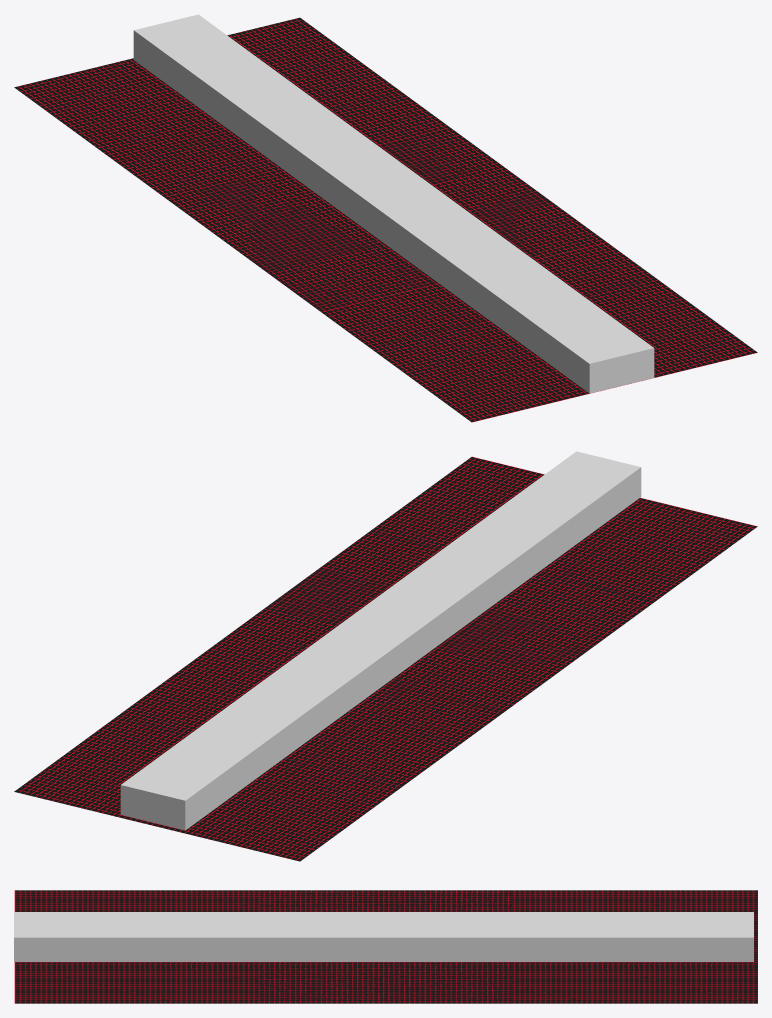
The model's file is galeria_convida.glb.
The picture shows the model from 3 angles, top to bottom: view 1: azimuth 30°, elevation 25°; view 2: azimuth 150°, elevation 25°; view 3: azimuth 270°, elevation 25°; orthographic projection. The views are drawn at different scales.
Parts seen in each view (by area): view 1: PlayArea, Plane.003, Plane.029, Plane.028, Plane.002, Plane.027, Plane.001; view 2: PlayArea, Plane.003, Plane.028, Plane.029, Plane.002, Plane.027, Plane.001; view 3: PlayArea, Plane.028, Plane.002, Plane.029, Plane.003, Plane.027, Plane.001.
Part boxes in pixels (box(x1,y1,x2,y2)): PlayArea: box(133, 14, 654, 393); Plane.003: box(14, 64, 418, 311); Plane.029: box(165, 176, 565, 422); Plane.028: box(378, 128, 757, 376); Plane.002: box(227, 17, 606, 259); Plane.027: box(259, 169, 659, 399); Plane.001: box(109, 58, 438, 288); PlayArea: box(120, 451, 641, 830); Plane.003: box(204, 613, 605, 861); Plane.028: box(165, 456, 544, 698); Plane.029: box(382, 503, 757, 737); Plane.002: box(14, 567, 390, 814); Plane.027: box(380, 497, 662, 696); Plane.001: box(108, 608, 509, 838); PlayArea: box(14, 912, 753, 961); Plane.028: box(14, 965, 512, 1003); Plane.002: box(259, 965, 757, 1003); Plane.029: box(14, 890, 512, 911); Plane.003: box(259, 890, 757, 927); Plane.027: box(14, 962, 512, 966); Plane.001: box(260, 927, 757, 966).
Bounding box in the file's own units: 14.21 × 1.44 × 39.42.
Materials: 18 (12 with a texture image).
